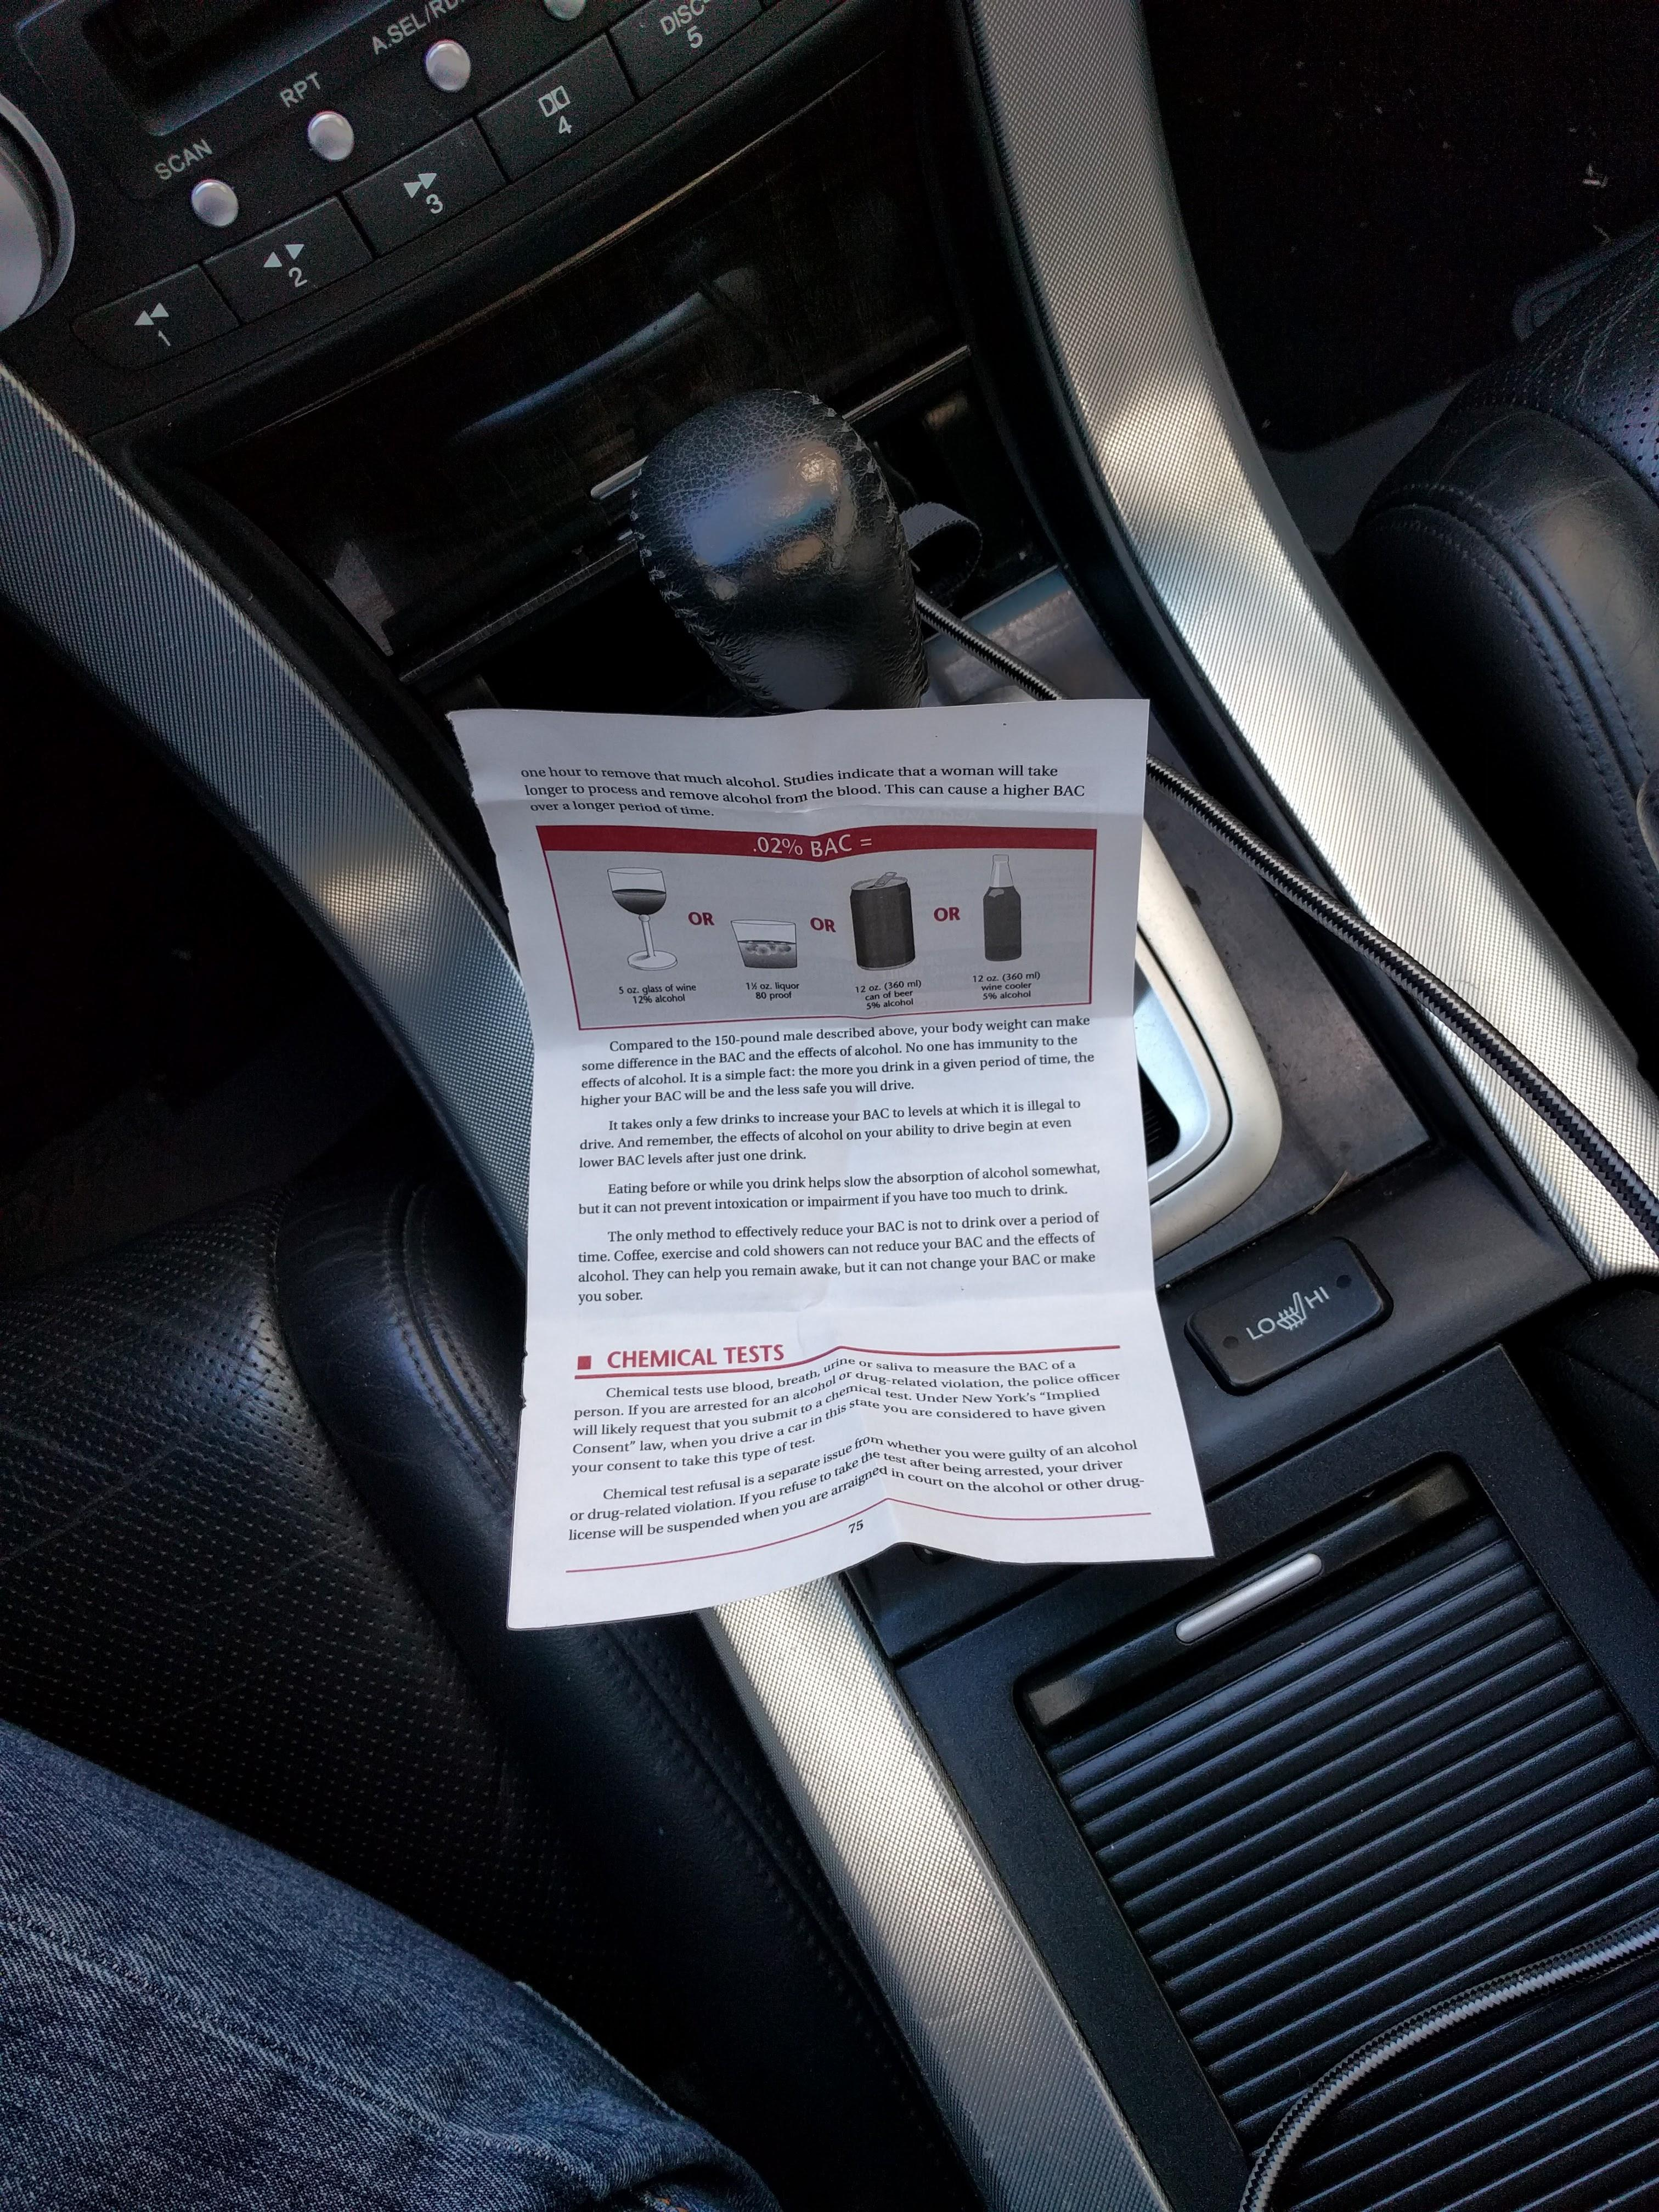paper: (282, 583, 1443, 1721)
